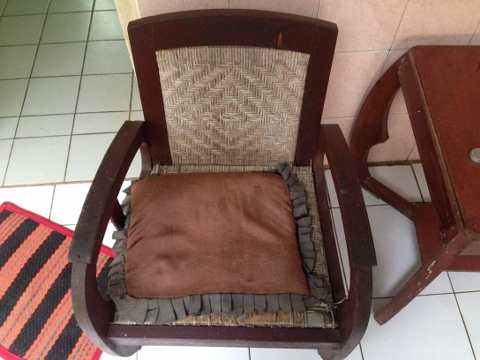kursi: (68, 10, 379, 358)
